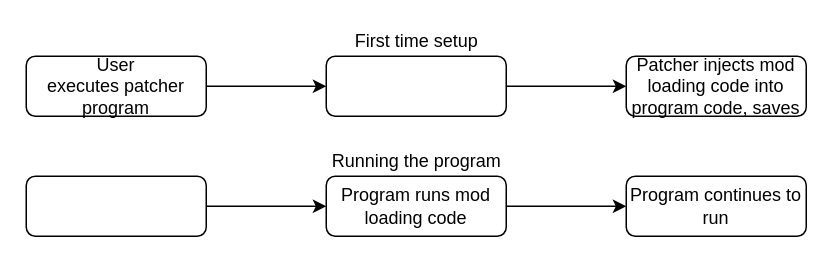
This 833x263 diagram has some shape labels left out. The box of each missing label's shape, as (x1, y1, x2, y2) in pixels:
Patcher reads program code from disk: (325, 55, 506, 116)
User executes program: (25, 175, 206, 236)
